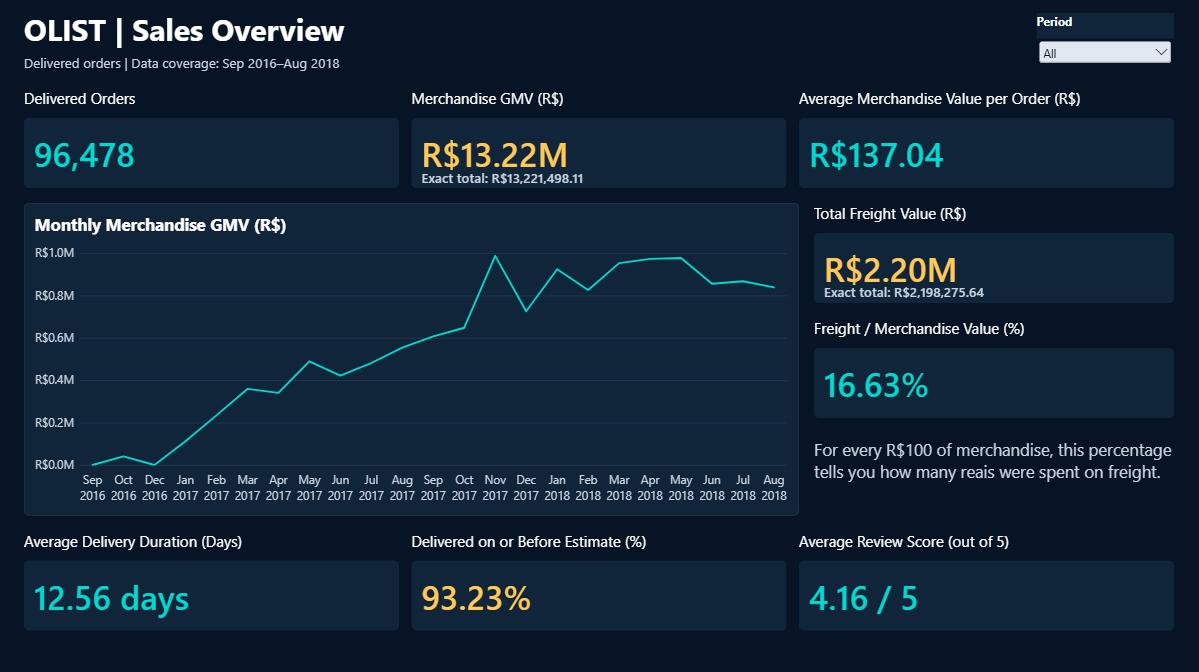

The page's visual inventory and layout, read from the dashboard file:
{"tool":"powerbi","page":{"name":"Sales Overview","canvas":[1920,1080],"ordinal":0},"visuals":[{"type":"cardVisual","title":"Delivered Orders","fields":{"Data":["fact_orders.Delivered Orders"]},"box":[40,144,600,160],"z":0},{"type":"cardVisual","title":"Average Merchandise Value per Order (R$)","fields":{"Data":["fact_orders.Average Merchandise Value per Order"]},"box":[1280,144,600,160],"z":1000},{"type":"cardVisual","title":"Merchandise GMV (R$)","fields":{"Data":["fact_order_items.Merchandise GMV"]},"box":[660,144,600,160],"z":2000,"group":"g1"},{"type":"lineChart","title":"Monthly Merchandise GMV (R$)","fields":{"Category":["dim_date.year_month"],"Y":["fact_order_items.Merchandise GMV"]},"box":[40,328,1240,500],"z":2000},{"type":"cardVisual","title":"Freight / Merchandise Value (%)","fields":{"Data":["fact_order_items.Freight % Merchandise GMV"]},"box":[1304,512,576,160],"z":3000},{"type":"cardVisual","title":"Total Freight Value (R$)","fields":{"Data":["fact_order_items.Total Freight"]},"box":[1305,328,576,160],"z":4000,"group":"g2"},{"type":"cardVisual","title":"Average Delivery Duration (Days)","fields":{"Data":["monthly_kpi_summary.Delivery Duration Display"]},"box":[40,852,600,160],"z":4000},{"type":"cardVisual","title":"Delivered on or Before Estimate (%)","fields":{"Data":["fact_orders.Delivered On or Before Estimate %"]},"box":[660,852,600,160],"z":5000},{"type":"cardVisual","title":"Average Review Score (out of 5)","fields":{"Data":["monthly_kpi_summary.Review Score Display"]},"box":[1280,852,600,160],"z":6000},{"type":"textbox","box":[40,16,1400,80],"z":7000},{"type":"textbox","box":[40,88,1400,32],"z":8000},{"type":"textbox","box":[1304,704,576,112],"z":9000},{"type":"group","id":"g1","title":"Group 2","box":[660,144,600,160],"z":11000},{"type":"cardVisual","fields":{"Data":["monthly_kpi_summary.Merchandise GMV Exact Display"]},"box":[660,270,324,34],"z":12000,"group":"g1"},{"type":"group","id":"g2","title":"Group 1","box":[1304,328,577,160],"z":12000},{"type":"cardVisual","fields":{"Data":["monthly_kpi_summary.Total Freight Exact Display"]},"box":[1304,455,345.4,26],"z":12000,"group":"g2"},{"type":"slicer","title":"Period","fields":{"Values":["dim_date.year_month"]},"box":[1660,24,220,88],"z":12001}]}

Visuals, with their boxes in screenshot pixels (x1, y1, x2, y2), scaled from the page's 1920x1080 canvas onto the 1199x672 screenshot:
"Delivered Orders" cardVisual: Rect(25, 90, 400, 189)
"Average Merchandise Value per Order (R$)" cardVisual: Rect(799, 90, 1174, 189)
"Merchandise GMV (R$)" cardVisual: Rect(412, 90, 787, 189)
"Monthly Merchandise GMV (R$)" lineChart: Rect(25, 204, 799, 515)
"Freight / Merchandise Value (%)" cardVisual: Rect(814, 319, 1174, 418)
"Total Freight Value (R$)" cardVisual: Rect(815, 204, 1175, 304)
"Average Delivery Duration (Days)" cardVisual: Rect(25, 530, 400, 630)
"Delivered on or Before Estimate (%)" cardVisual: Rect(412, 530, 787, 630)
"Average Review Score (out of 5)" cardVisual: Rect(799, 530, 1174, 630)
textbox: Rect(25, 10, 899, 60)
textbox: Rect(25, 55, 899, 75)
textbox: Rect(814, 438, 1174, 508)
"Group 2" group: Rect(412, 90, 787, 189)
cardVisual - monthly_kpi_summary.Merchandise GMV Exact Display: Rect(412, 168, 614, 189)
"Group 1" group: Rect(814, 204, 1175, 304)
cardVisual - monthly_kpi_summary.Total Freight Exact Display: Rect(814, 283, 1030, 299)
"Period" slicer: Rect(1037, 15, 1174, 70)
